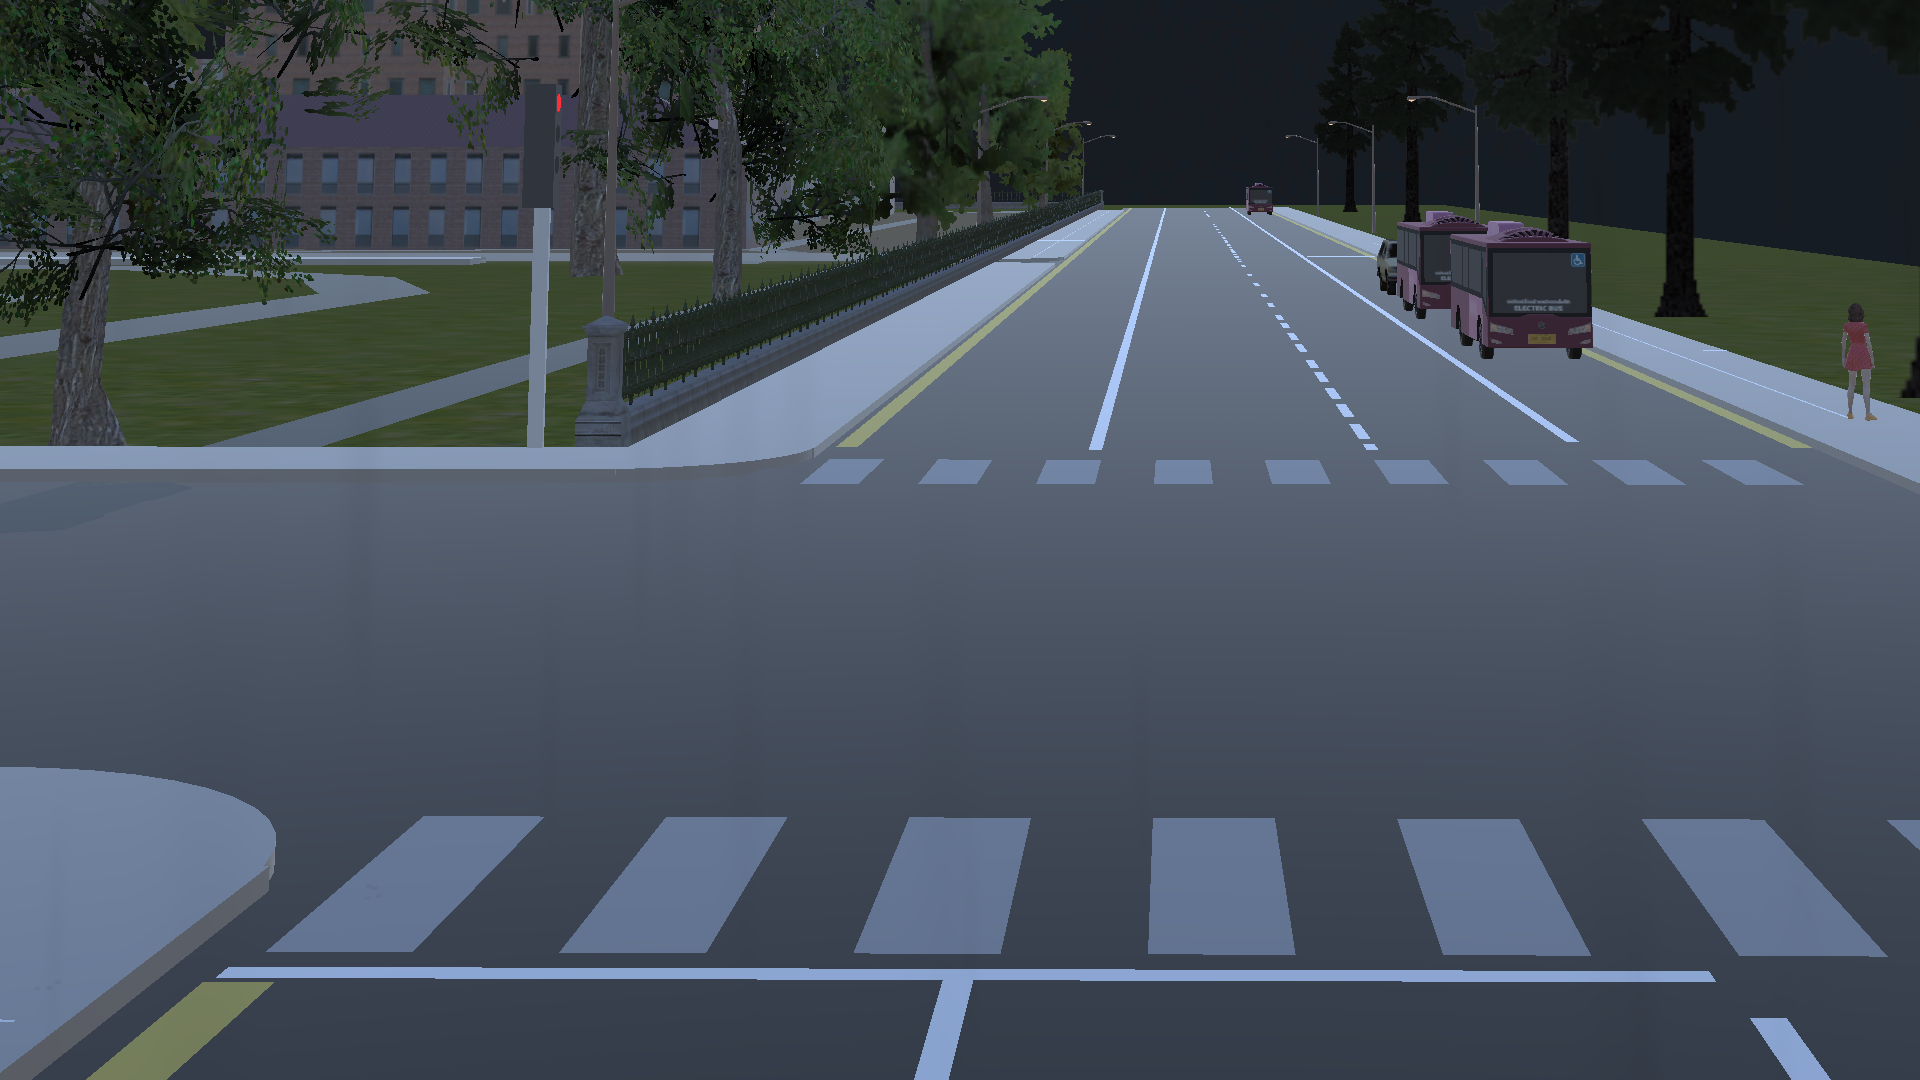pedestrian: (1836, 284, 1882, 425)
